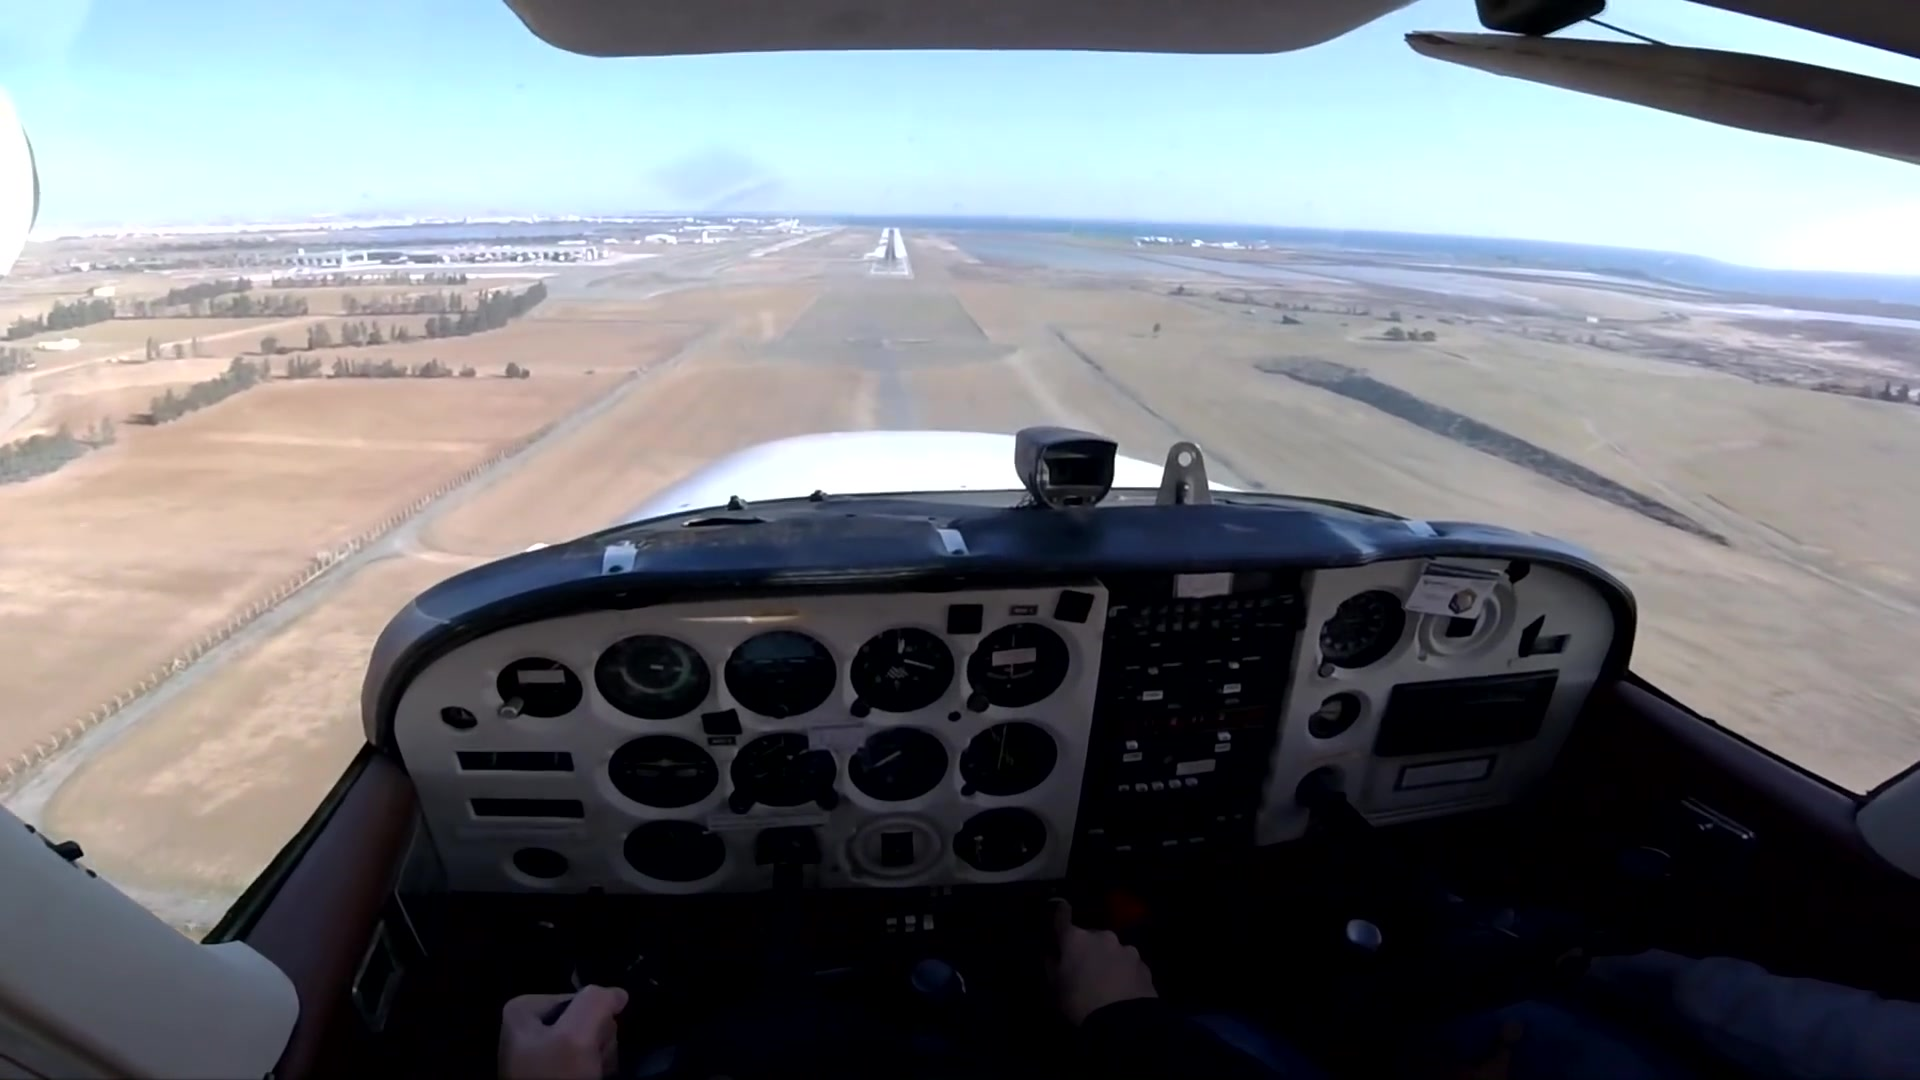runway: (870, 227, 909, 280)
